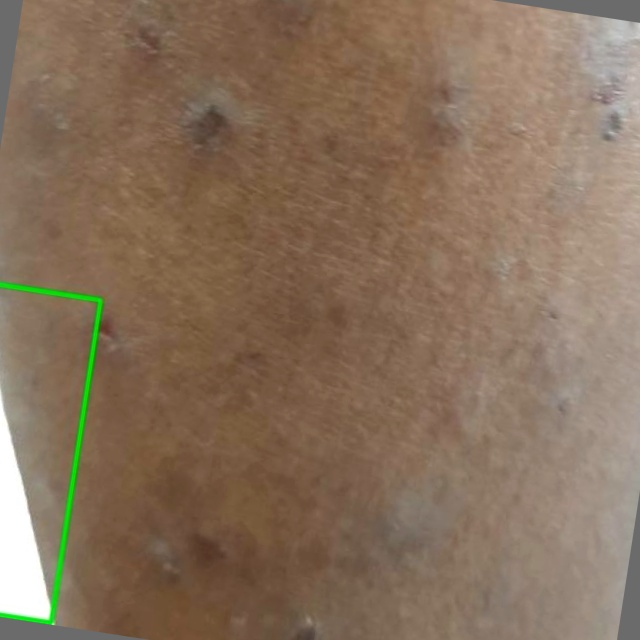Atopic Dermatitis: (0, 286, 101, 624)
